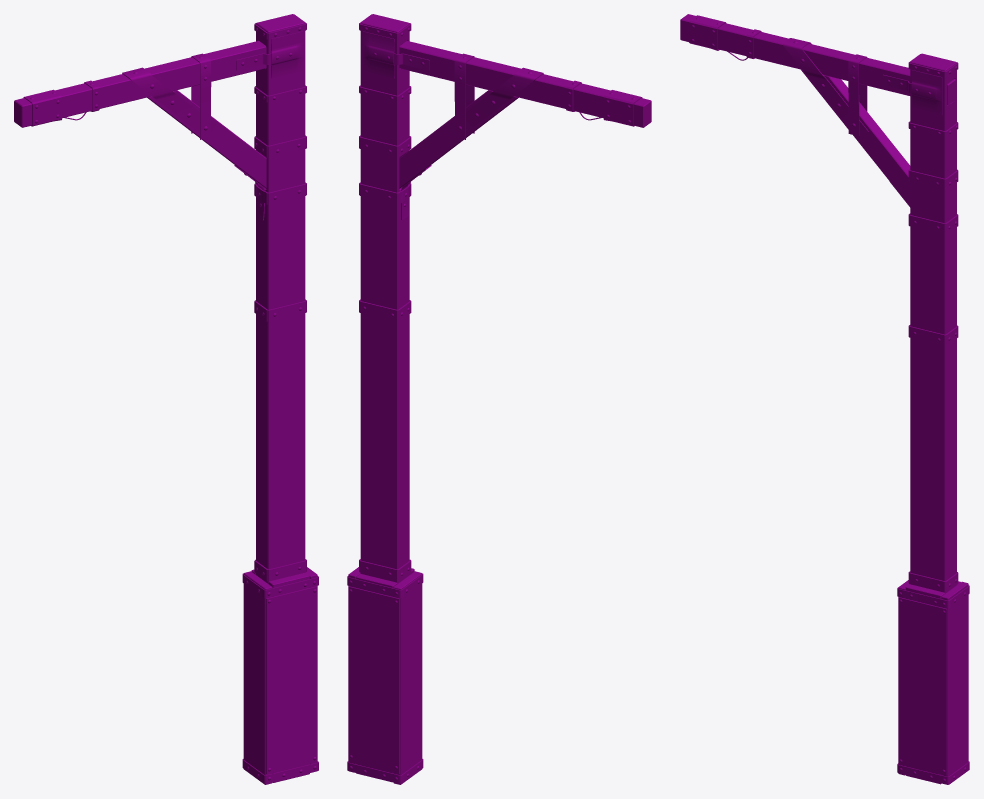
The model's file is SM_Wooden_Streetpole.fbx.
The picture shows the model from 3 angles, left to right: view 1: azimuth 30°, elevation 25°; view 2: azimuth 150°, elevation 25°; view 3: azimuth 330°, elevation 25°; orthographic projection. The views are drawn at different scales.
Parts seen in each view (by area): view 1: SM_Wooden_Streetpole; view 2: SM_Wooden_Streetpole; view 3: SM_Wooden_Streetpole.
Part boxes in pixels (x1,y1,x2,y2): SM_Wooden_Streetpole: [14, 14, 318, 784]; SM_Wooden_Streetpole: [347, 14, 651, 784]; SM_Wooden_Streetpole: [680, 14, 969, 784].
Bounding box in the file's own units: 174 × 25 × 427.
